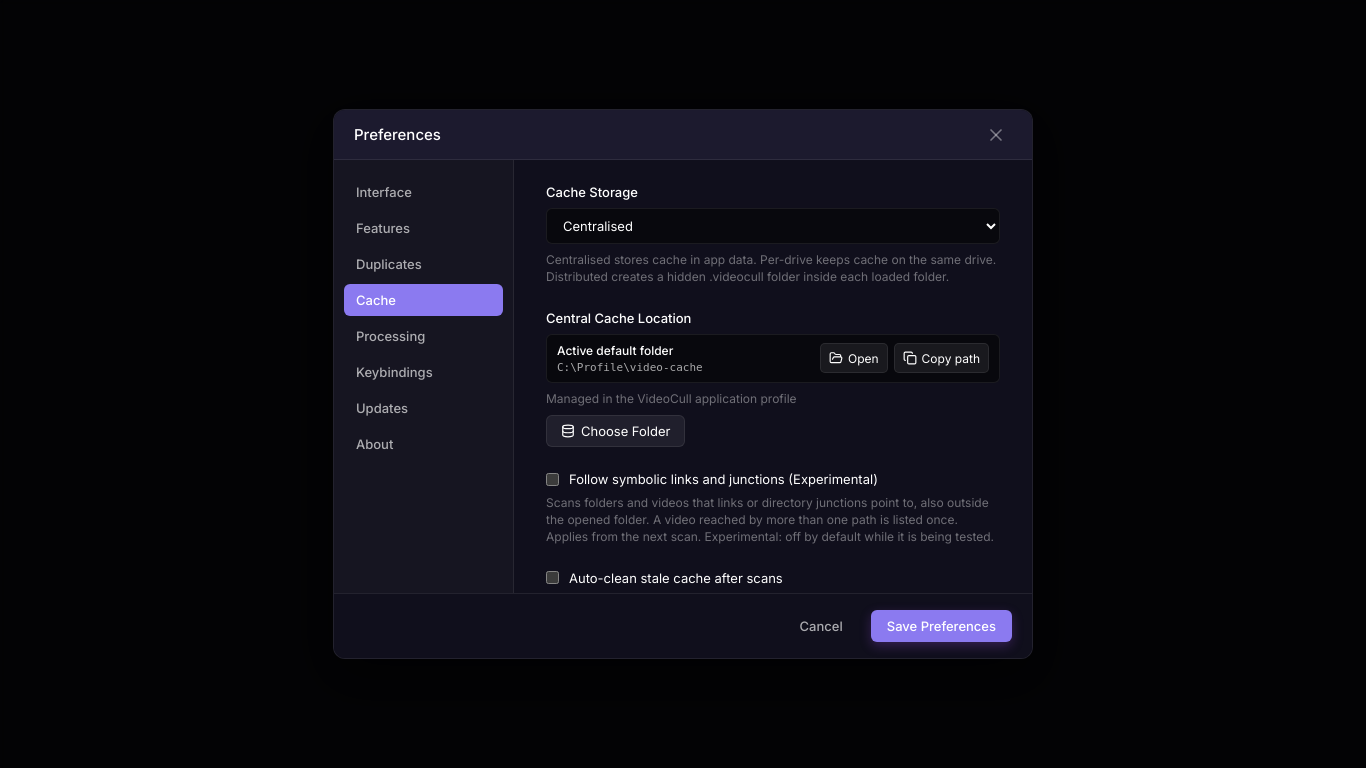
Test: SettingsModal integration behavior › keeps the modal open and shows the migration error when cache relocation fails
This screenshot has width=1366, height=768.
Select "Per-drive" in the dropdown: (773,226) 546,208 -> 1000,244
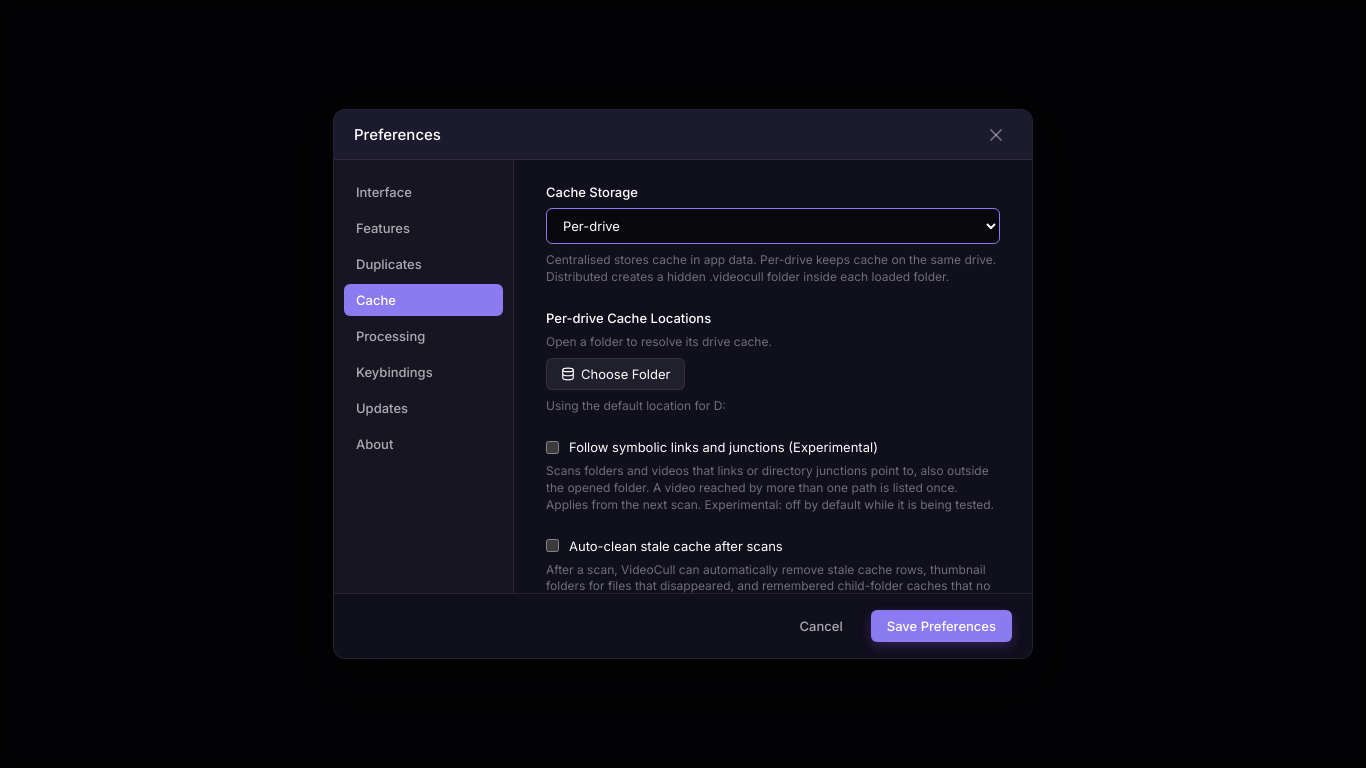
Click the button "Save Preferences": (941,626) 871,610 -> 1012,642
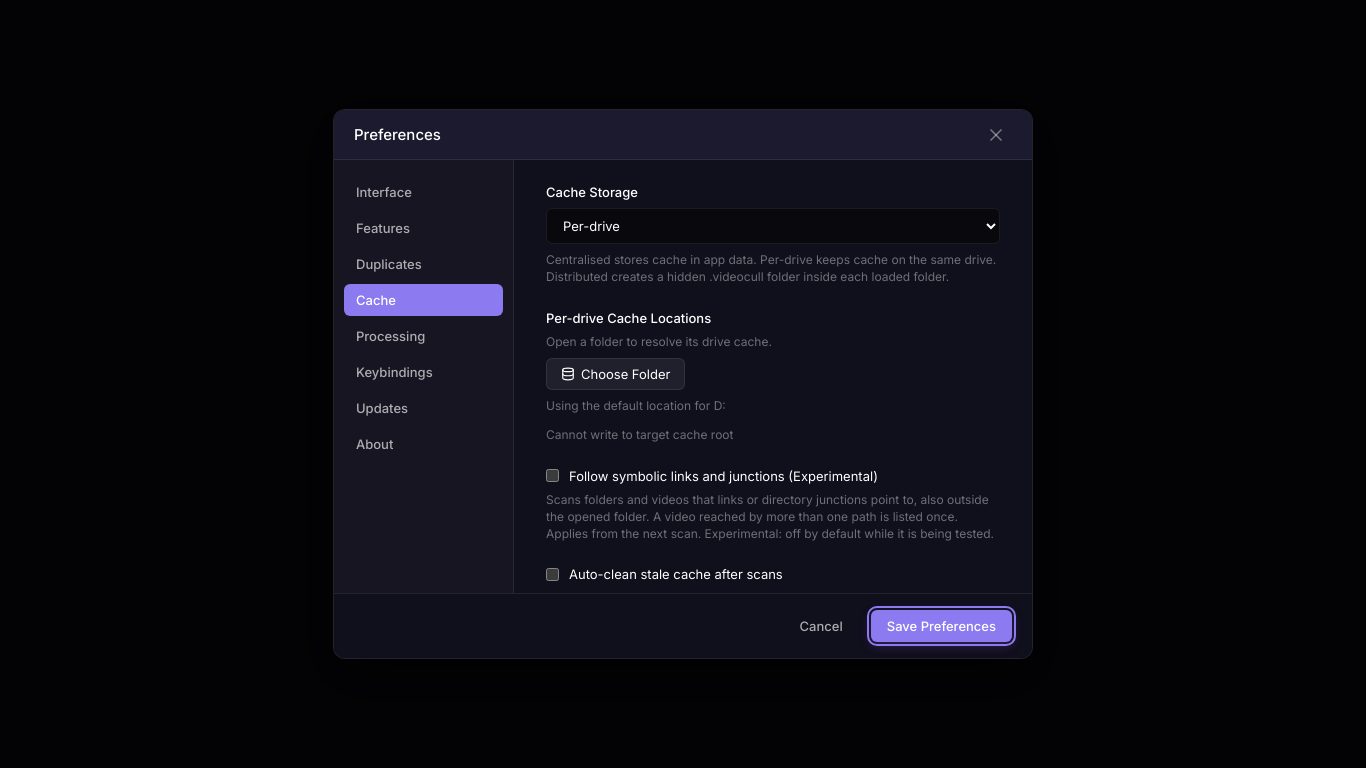
Expected: the text "Cannot write to target cache root" is shown, 546,427 -> 734,442
